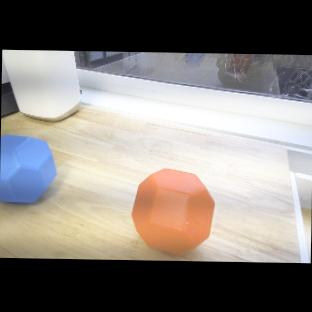V5_BLUE: (0, 133, 58, 205)
V5_RED: (130, 167, 215, 255)
